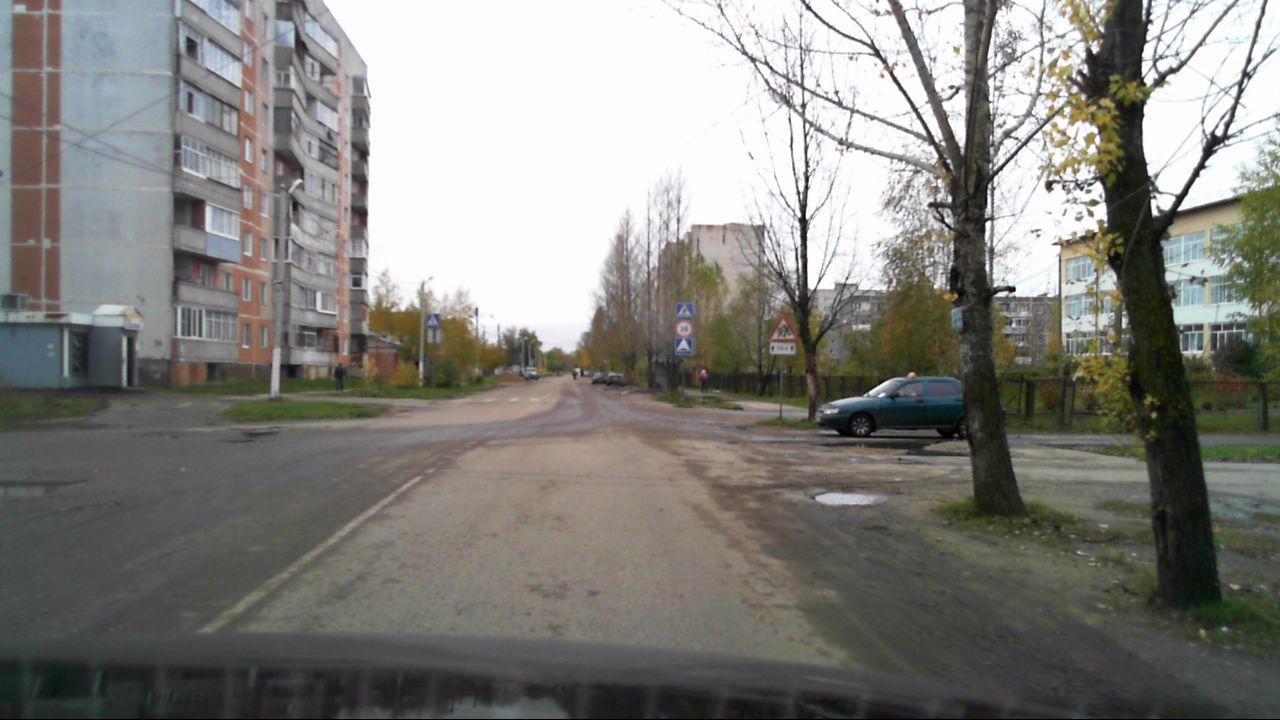road_sign: (767, 315, 800, 343), (674, 337, 692, 356), (769, 343, 796, 355), (674, 303, 693, 319)
